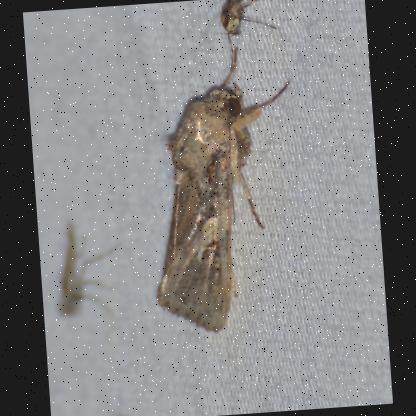Fall Armyworm Moth: (136, 27, 312, 340)
